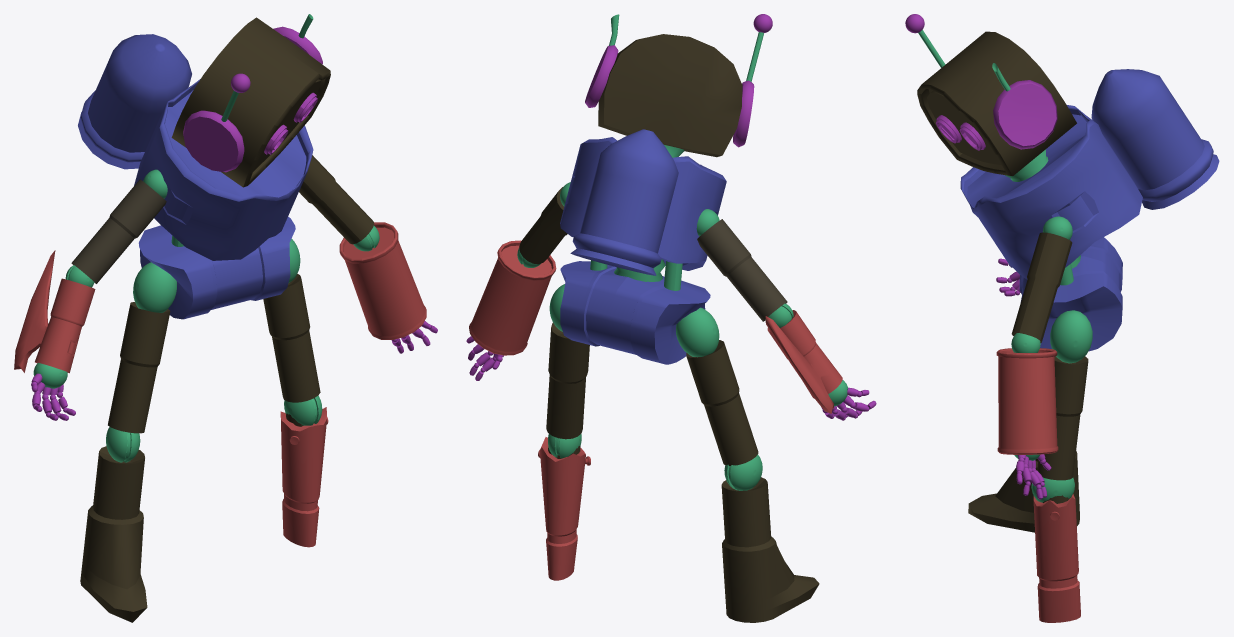
The model's file is R-BRT_Cover_Stance.fbx.
3 views of the same model, side by side, from view 1: azimuth 30°, elevation 25°; view 2: azimuth 150°, elevation 25°; view 3: azimuth 270°, elevation 25° (orthographic). The views are drawn at different scales.
Visible parts, largest first — view 1: Chest, Head, JetPack, LeftLeg4, Hips2, RightArm5 (×2), Can, RightArm8, LeftLeg5, PegLeg, RighLeg2, EarR1 (+4 smaller); view 2: Head, JetPack, Hips2, LeftLeg4, Chest, Can, RightArm5 (×2), LeftLeg5, PegLeg, RighLeg2, RightArm8, LeftLeg6 (+4 smaller); view 3: Chest, JetPack, Head, Can, PegLeg, Hips2, RightArm5, EarR, RighLeg2, LeftLeg4, RightHip, RightLeg7 (+3 smaller).
Boxes of the visible parts, left/top/right/bottom form: Chest: left=134, top=79, right=313, bottom=260; Head: left=171, top=17, right=330, bottom=187; JetPack: left=78, top=34, right=191, bottom=169; LeftLeg4: left=80, top=446, right=147, bottom=622; Hips2: left=138, top=216, right=295, bottom=319; RightArm5 (×2): left=71, top=155, right=374, bottom=283; Can: left=339, top=222, right=426, bottom=339; RightArm8: left=14, top=250, right=95, bottom=373; LeftLeg5: left=108, top=302, right=170, bottom=433; PegLeg: left=280, top=407, right=326, bottom=547; RighLeg2: left=263, top=274, right=320, bottom=402; EarR1: left=183, top=110, right=244, bottom=172; Head: left=598, top=34, right=742, bottom=157; JetPack: left=570, top=129, right=678, bottom=275; Hips2: left=560, top=261, right=710, bottom=364; LeftLeg4: left=721, top=477, right=819, bottom=622; Chest: left=560, top=137, right=726, bottom=270; Can: left=469, top=240, right=556, bottom=355; RightArm5 (×2): left=519, top=187, right=787, bottom=321; LeftLeg5: left=686, top=340, right=758, bottom=465; PegLeg: left=540, top=437, right=585, bottom=580; RighLeg2: left=546, top=322, right=589, bottom=439; RightArm8: left=765, top=310, right=842, bottom=413; LeftLeg6: left=676, top=307, right=719, bottom=357; Chest: left=960, top=105, right=1142, bottom=279; JetPack: left=1091, top=69, right=1219, bottom=209; Head: left=917, top=31, right=1076, bottom=175; Can: left=996, top=348, right=1058, bottom=454; PegLeg: left=1033, top=494, right=1080, bottom=622; Hips2: left=1019, top=237, right=1122, bottom=351; RightArm5: left=1011, top=232, right=1072, bottom=342; EarR: left=993, top=80, right=1057, bottom=149; RighLeg2: left=1037, top=356, right=1088, bottom=480; LeftLeg4: left=968, top=451, right=1079, bottom=532; RightHip: left=1050, top=310, right=1092, bottom=363; RightLeg7: left=1031, top=477, right=1074, bottom=502.
Bounding box in the file's own units: 69.98 × 90.59 × 47.42.
